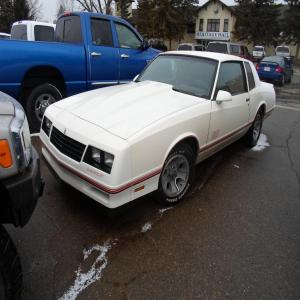Vehicle-registration-plate: (266, 67, 271, 72)
